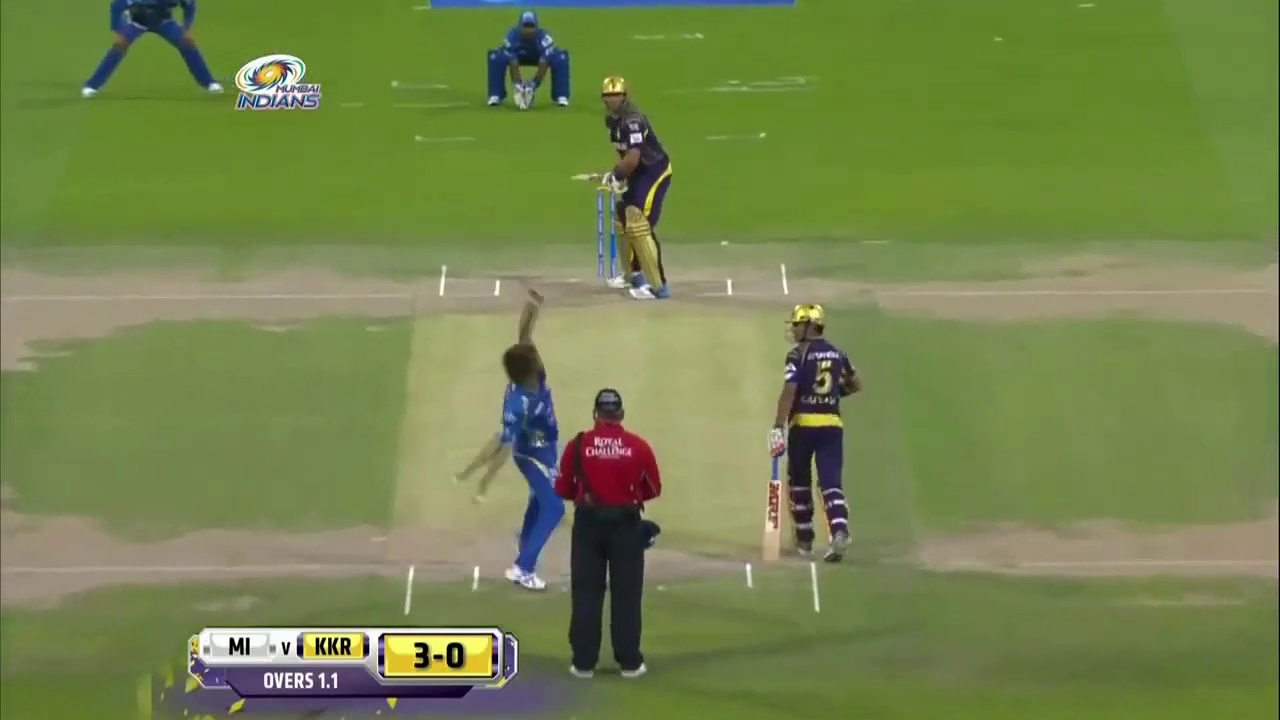bat: (763, 461, 785, 564)
